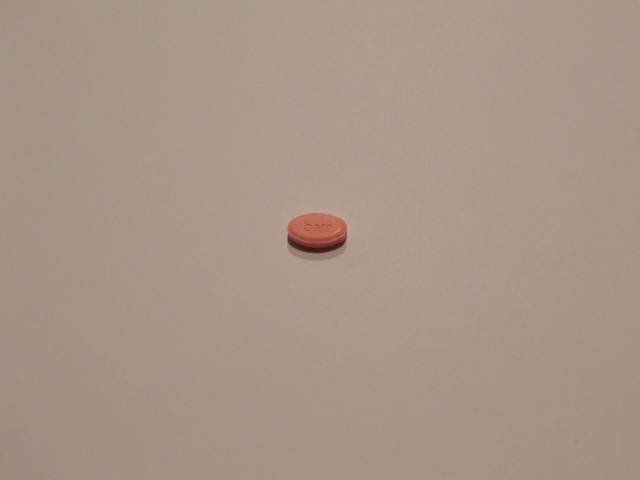a: (312, 225, 319, 233)
b: (302, 217, 313, 233)
